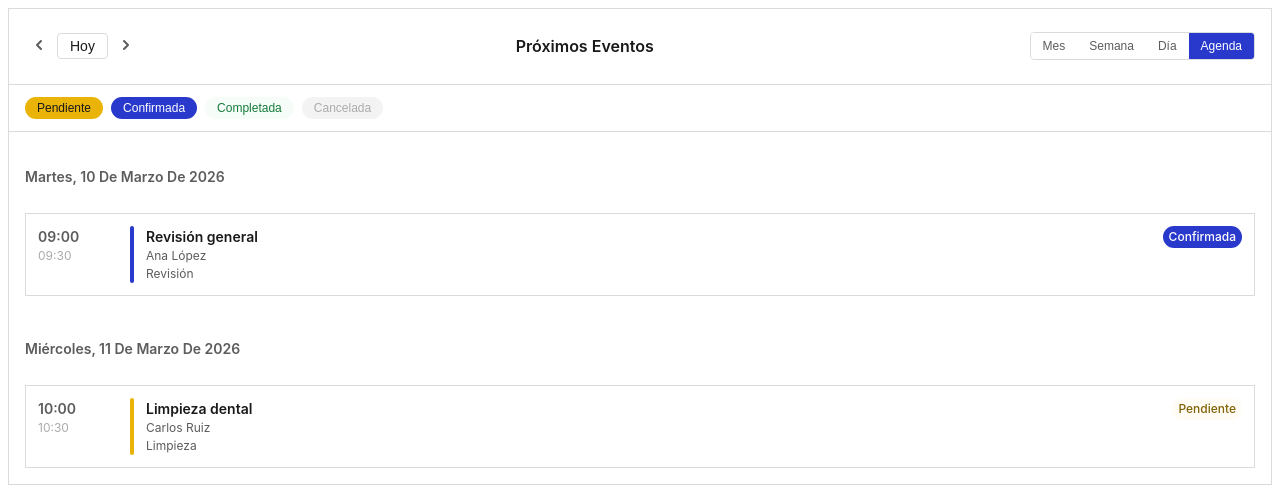
Calendar › AgendaView › re-checking a chip restores the hidden events
Click the checkbox labelled "Pendiente" at (64, 108), box 25,96 -> 103,118
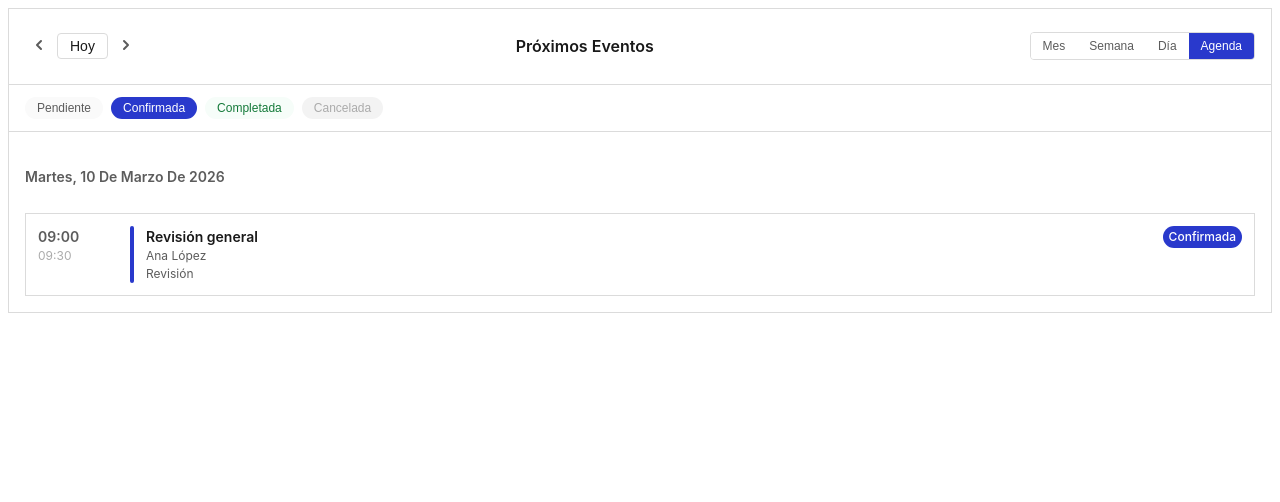
Expected: the button "Limpieza dental" is gone
Click the checkbox labelled "Pendiente" at (64, 108), box 25,96 -> 103,118
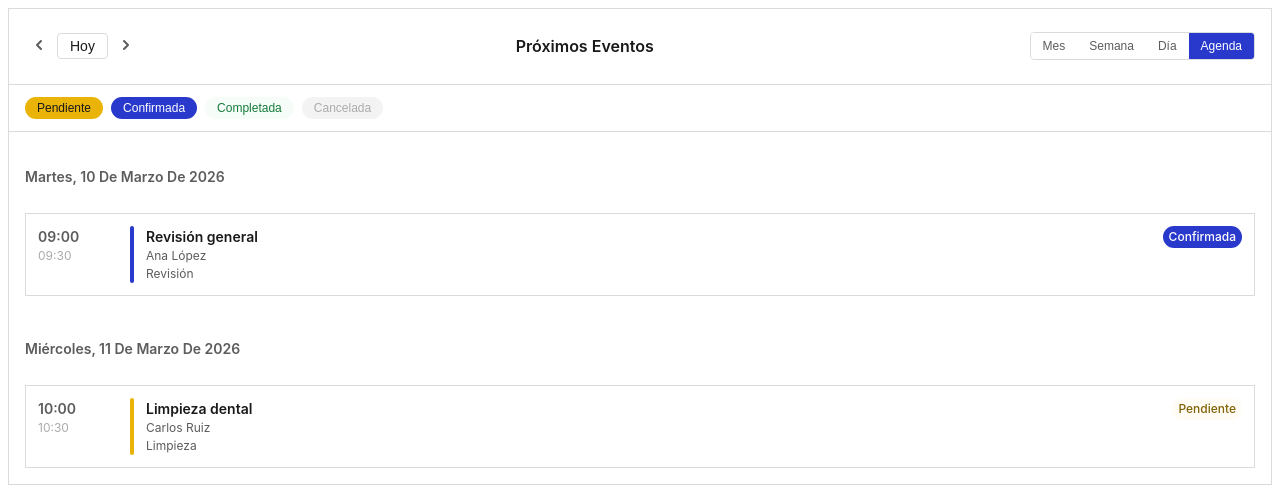
Expected: the text "Limpieza dental" is shown, 146,400 -> 252,416
